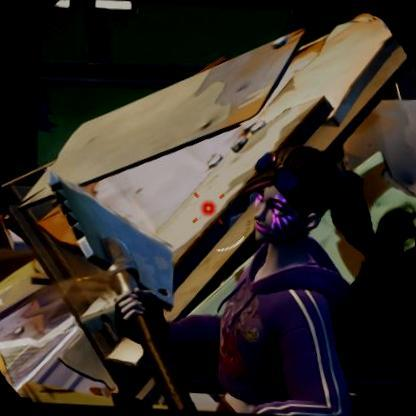person: (221, 151, 354, 416)
